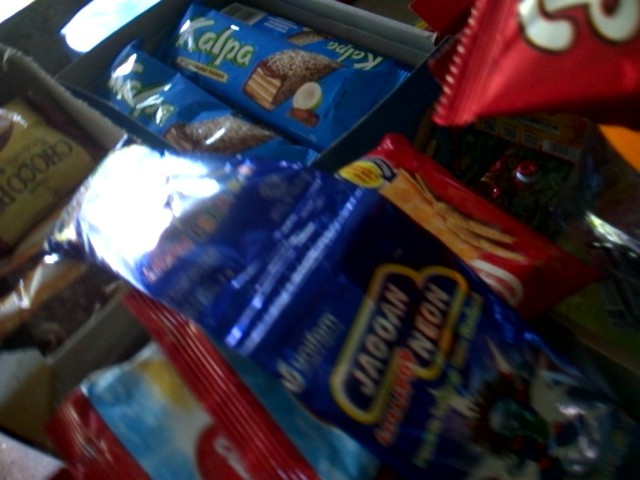jagoan neon: (233, 179, 640, 478)
